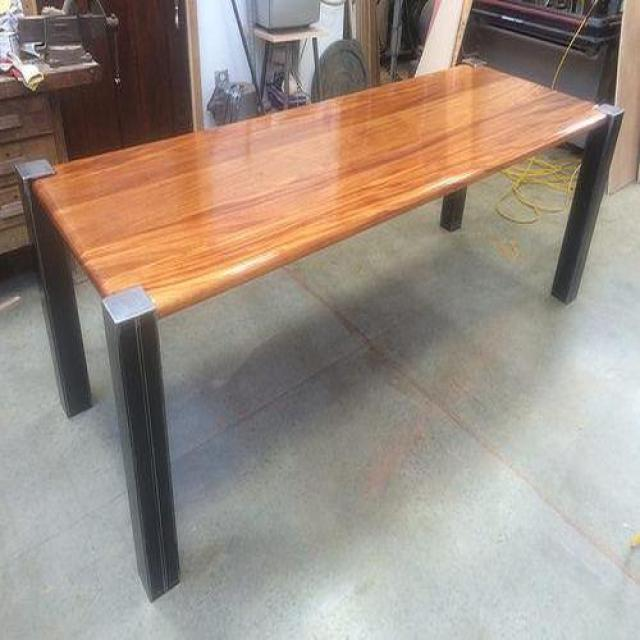table: (27, 65, 626, 603)
